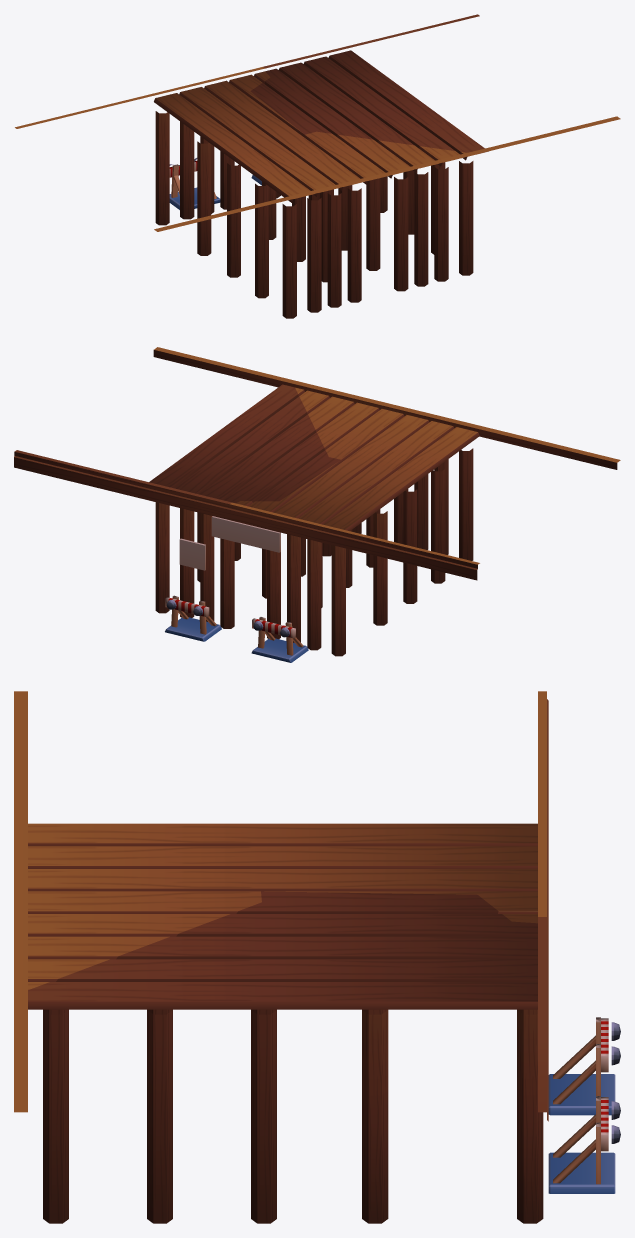
File: 1.100_SanFrancisco_gates_mid.glb
3 renders of one model, top to bottom at view 1: azimuth 30°, elevation 25°; view 2: azimuth 150°, elevation 25°; view 3: azimuth 270°, elevation 25°, orthographic. The views are drawn at different scales.
Parts seen in each view (by area): view 1: 1.100_SanFrancisco_gates_mid; view 2: 1.100_SanFrancisco_gates_mid; view 3: 1.100_SanFrancisco_gates_mid.
Boxes of the visible parts, x1,y1,x2,y2 form: 1.100_SanFrancisco_gates_mid: (15, 14, 620, 318); 1.100_SanFrancisco_gates_mid: (14, 347, 620, 662); 1.100_SanFrancisco_gates_mid: (14, 691, 620, 1223).
Bounding box in the file's own units: 214 × 56.06 × 130.
2 materials, 2 textured.
